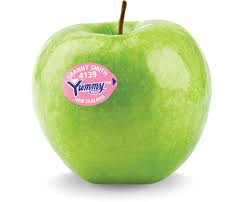apple: (38, 19, 209, 187)
